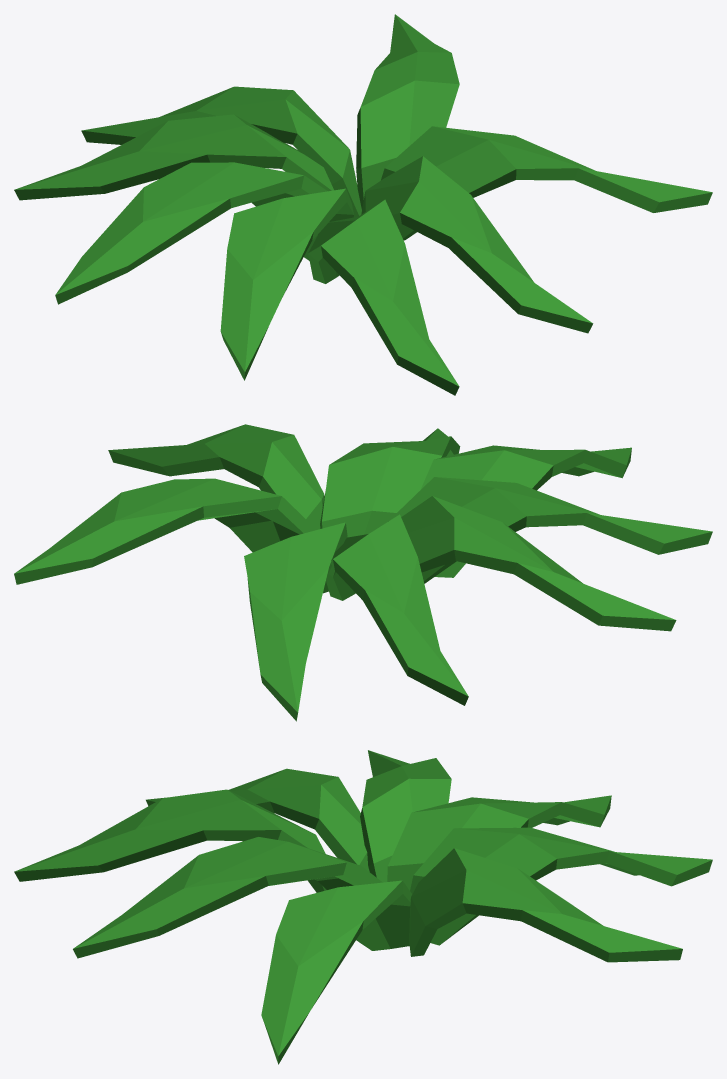
Rendered from grass_1.glb.
3 renders of one model, top to bottom at view 1: azimuth 30°, elevation 25°; view 2: azimuth 150°, elevation 25°; view 3: azimuth 270°, elevation 25°, orthographic. The views are drawn at different scales.
Parts seen in each view (by area): view 1: Plane.030; view 2: Plane.030; view 3: Plane.030.
Part boxes in pixels (x1=…): Plane.030: x1=14, y1=14, x2=712, y2=395; Plane.030: x1=14, y1=424, x2=712, y2=721; Plane.030: x1=14, y1=750, x2=712, y2=1064.
Bounding box in the file's own units: 0.5207 × 0.0899 × 0.524.
